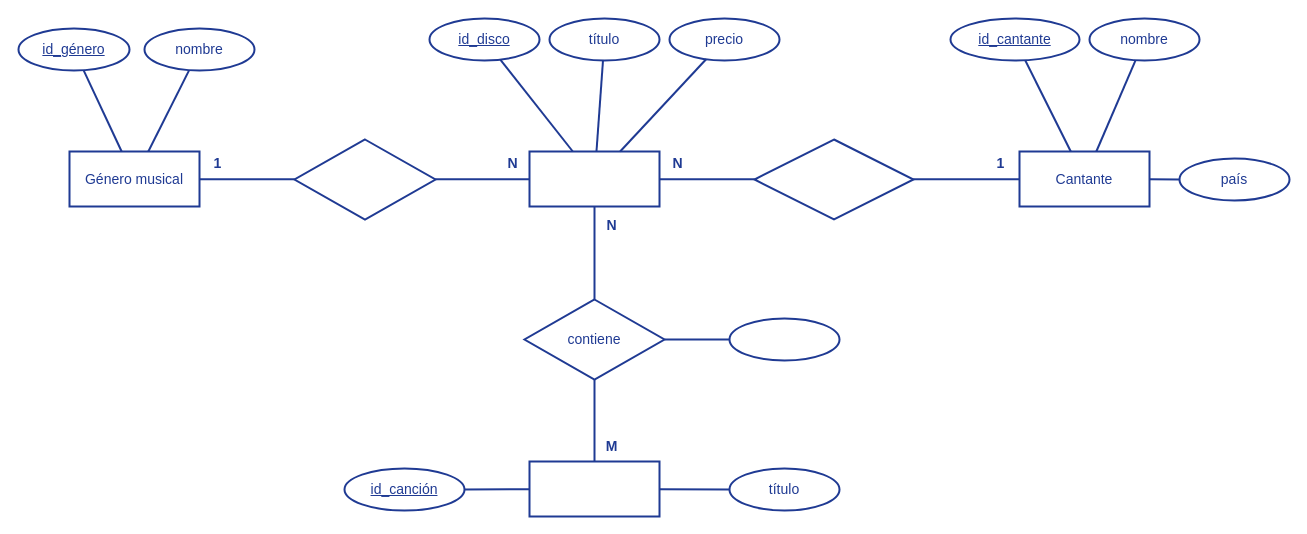
Some shapes in this 1307 by 534 pixel diagram are drawn without their labels. Each missing label, with the centre of its shape:
Canción: point (594, 488)
clasifica: point (364, 179)
Disco: point (594, 178)
pertenece a: point (833, 179)
posición: point (784, 339)
